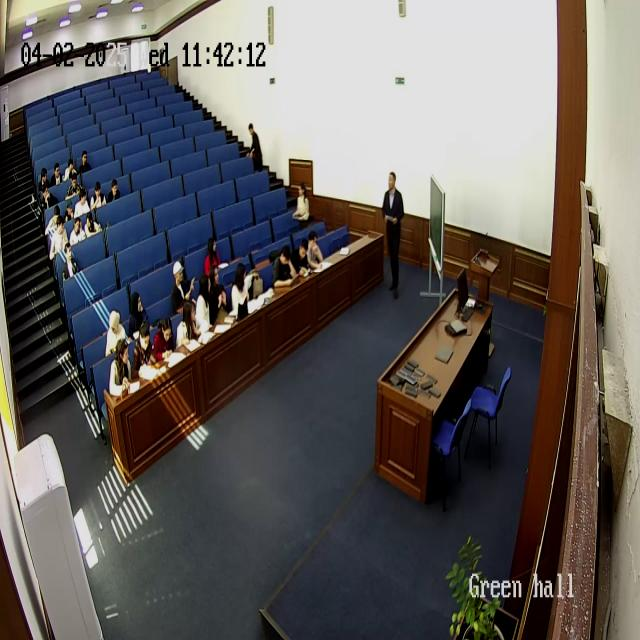person: (382, 171, 406, 293), (108, 338, 134, 396), (194, 273, 216, 337), (172, 260, 196, 314), (230, 262, 253, 318), (208, 263, 230, 321), (270, 244, 298, 288), (176, 298, 200, 348), (151, 314, 175, 364), (126, 290, 150, 338), (105, 308, 128, 358), (130, 324, 152, 374), (244, 120, 264, 172), (48, 219, 68, 262), (203, 235, 222, 280), (290, 241, 312, 279), (61, 239, 80, 283), (292, 183, 310, 229), (305, 231, 325, 270), (44, 204, 62, 244), (82, 207, 102, 239), (68, 216, 86, 250), (74, 187, 92, 220), (41, 186, 57, 220), (90, 182, 106, 214), (66, 175, 82, 204), (51, 165, 66, 194), (62, 158, 78, 185), (38, 167, 50, 200), (106, 178, 121, 204), (77, 149, 91, 175)
